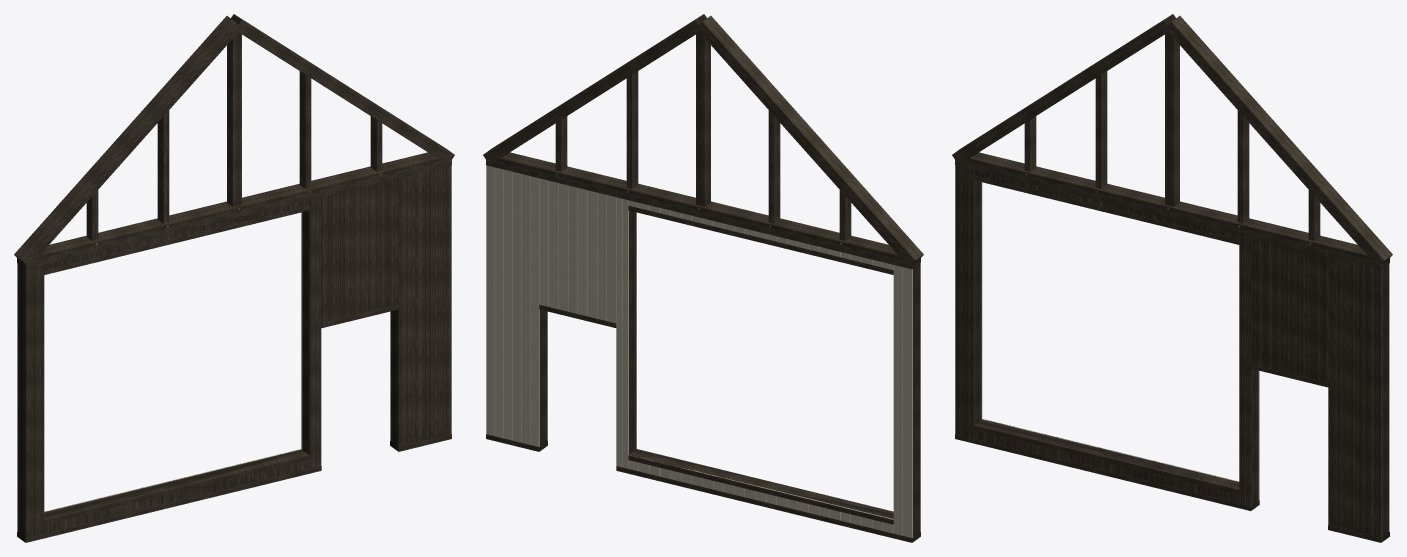
3 views of the same model, side by side, from view 1: azimuth 30°, elevation 25°; view 2: azimuth 150°, elevation 25°; view 3: azimuth 330°, elevation 25° (orthographic).
Visible parts, largest first — view 1: Mesh_dark, Mesh_warm; view 2: Mesh_warm, Mesh_dark; view 3: Mesh_dark, Mesh_warm.
Boxes of the visible parts, x1,y1,x2,y2 form: Mesh_dark: (14, 14, 454, 542); Mesh_warm: (17, 174, 390, 531); Mesh_warm: (486, 165, 912, 537); Mesh_dark: (483, 14, 923, 542); Mesh_dark: (952, 14, 1392, 542); Mesh_warm: (981, 174, 1389, 531).
Size of the model in its own units: 7.31 by 7.59 by 0.265.
2 materials, 2 textured.
